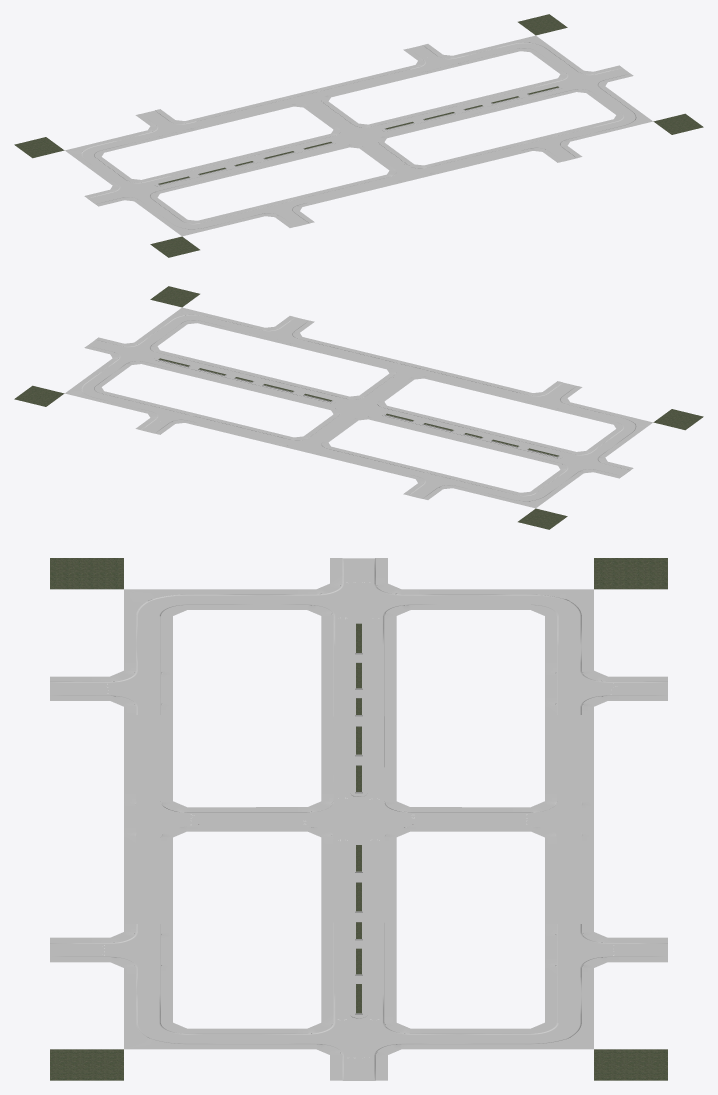
File: Double-Block-02-C.fbx
The picture shows the model from 3 angles, top to bottom: view 1: azimuth 30°, elevation 25°; view 2: azimuth 150°, elevation 25°; view 3: azimuth 270°, elevation 25°; orthographic projection. The views are drawn at different scales.
Visible parts, largest first — view 1: Double-Block-04-B, Double-Block-04, Double-Block-04-C, Double-Block-04-Sidewalk-B, Double-Block-04-Sidewalk, Double-Block-04-Sidewalk-C; view 2: Double-Block-04-B, Double-Block-04, Double-Block-04-C, Double-Block-04-Sidewalk-B, Double-Block-04-Sidewalk, Double-Block-04-Sidewalk-C; view 3: Double-Block-04-B, Double-Block-04, Double-Block-04-C, Double-Block-04-Sidewalk-B, Double-Block-04-Sidewalk, Double-Block-04-Sidewalk-C.
Part boxes in pixels (box(x1,y1,x2,y2)): Double-Block-04-B: box(153, 69, 564, 202); Double-Block-04: box(409, 14, 703, 161); Double-Block-04-C: box(14, 110, 309, 257); Double-Block-04-Sidewalk-B: box(193, 67, 524, 204); Double-Block-04-Sidewalk: box(403, 35, 652, 162); Double-Block-04-Sidewalk-C: box(65, 109, 314, 236); Double-Block-04-B: box(153, 341, 564, 474); Double-Block-04: box(14, 286, 308, 433); Double-Block-04-C: box(408, 382, 703, 529); Double-Block-04-Sidewalk-B: box(193, 339, 524, 476); Double-Block-04-Sidewalk: box(65, 307, 314, 434); Double-Block-04-Sidewalk-C: box(403, 381, 652, 508); Double-Block-04-B: box(135, 620, 582, 1018); Double-Block-04: box(50, 922, 667, 1080); Double-Block-04-C: box(50, 558, 667, 716); Double-Block-04-Sidewalk-B: box(124, 715, 593, 923); Double-Block-04-Sidewalk: box(50, 922, 667, 1080); Double-Block-04-Sidewalk-C: box(50, 558, 667, 716).
Size of what is drawn, in the model's own units: 600 by 0.65 by 300.
